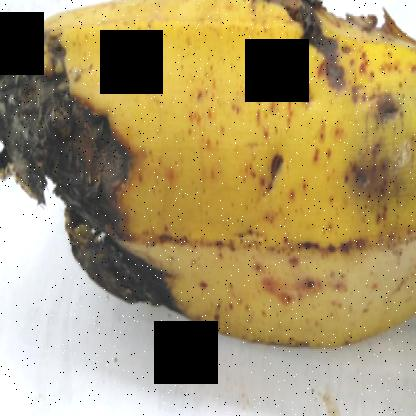rotten: (0, 1, 213, 360), (250, 1, 415, 247)
